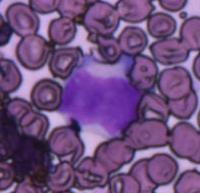M: (57, 66, 142, 138)
